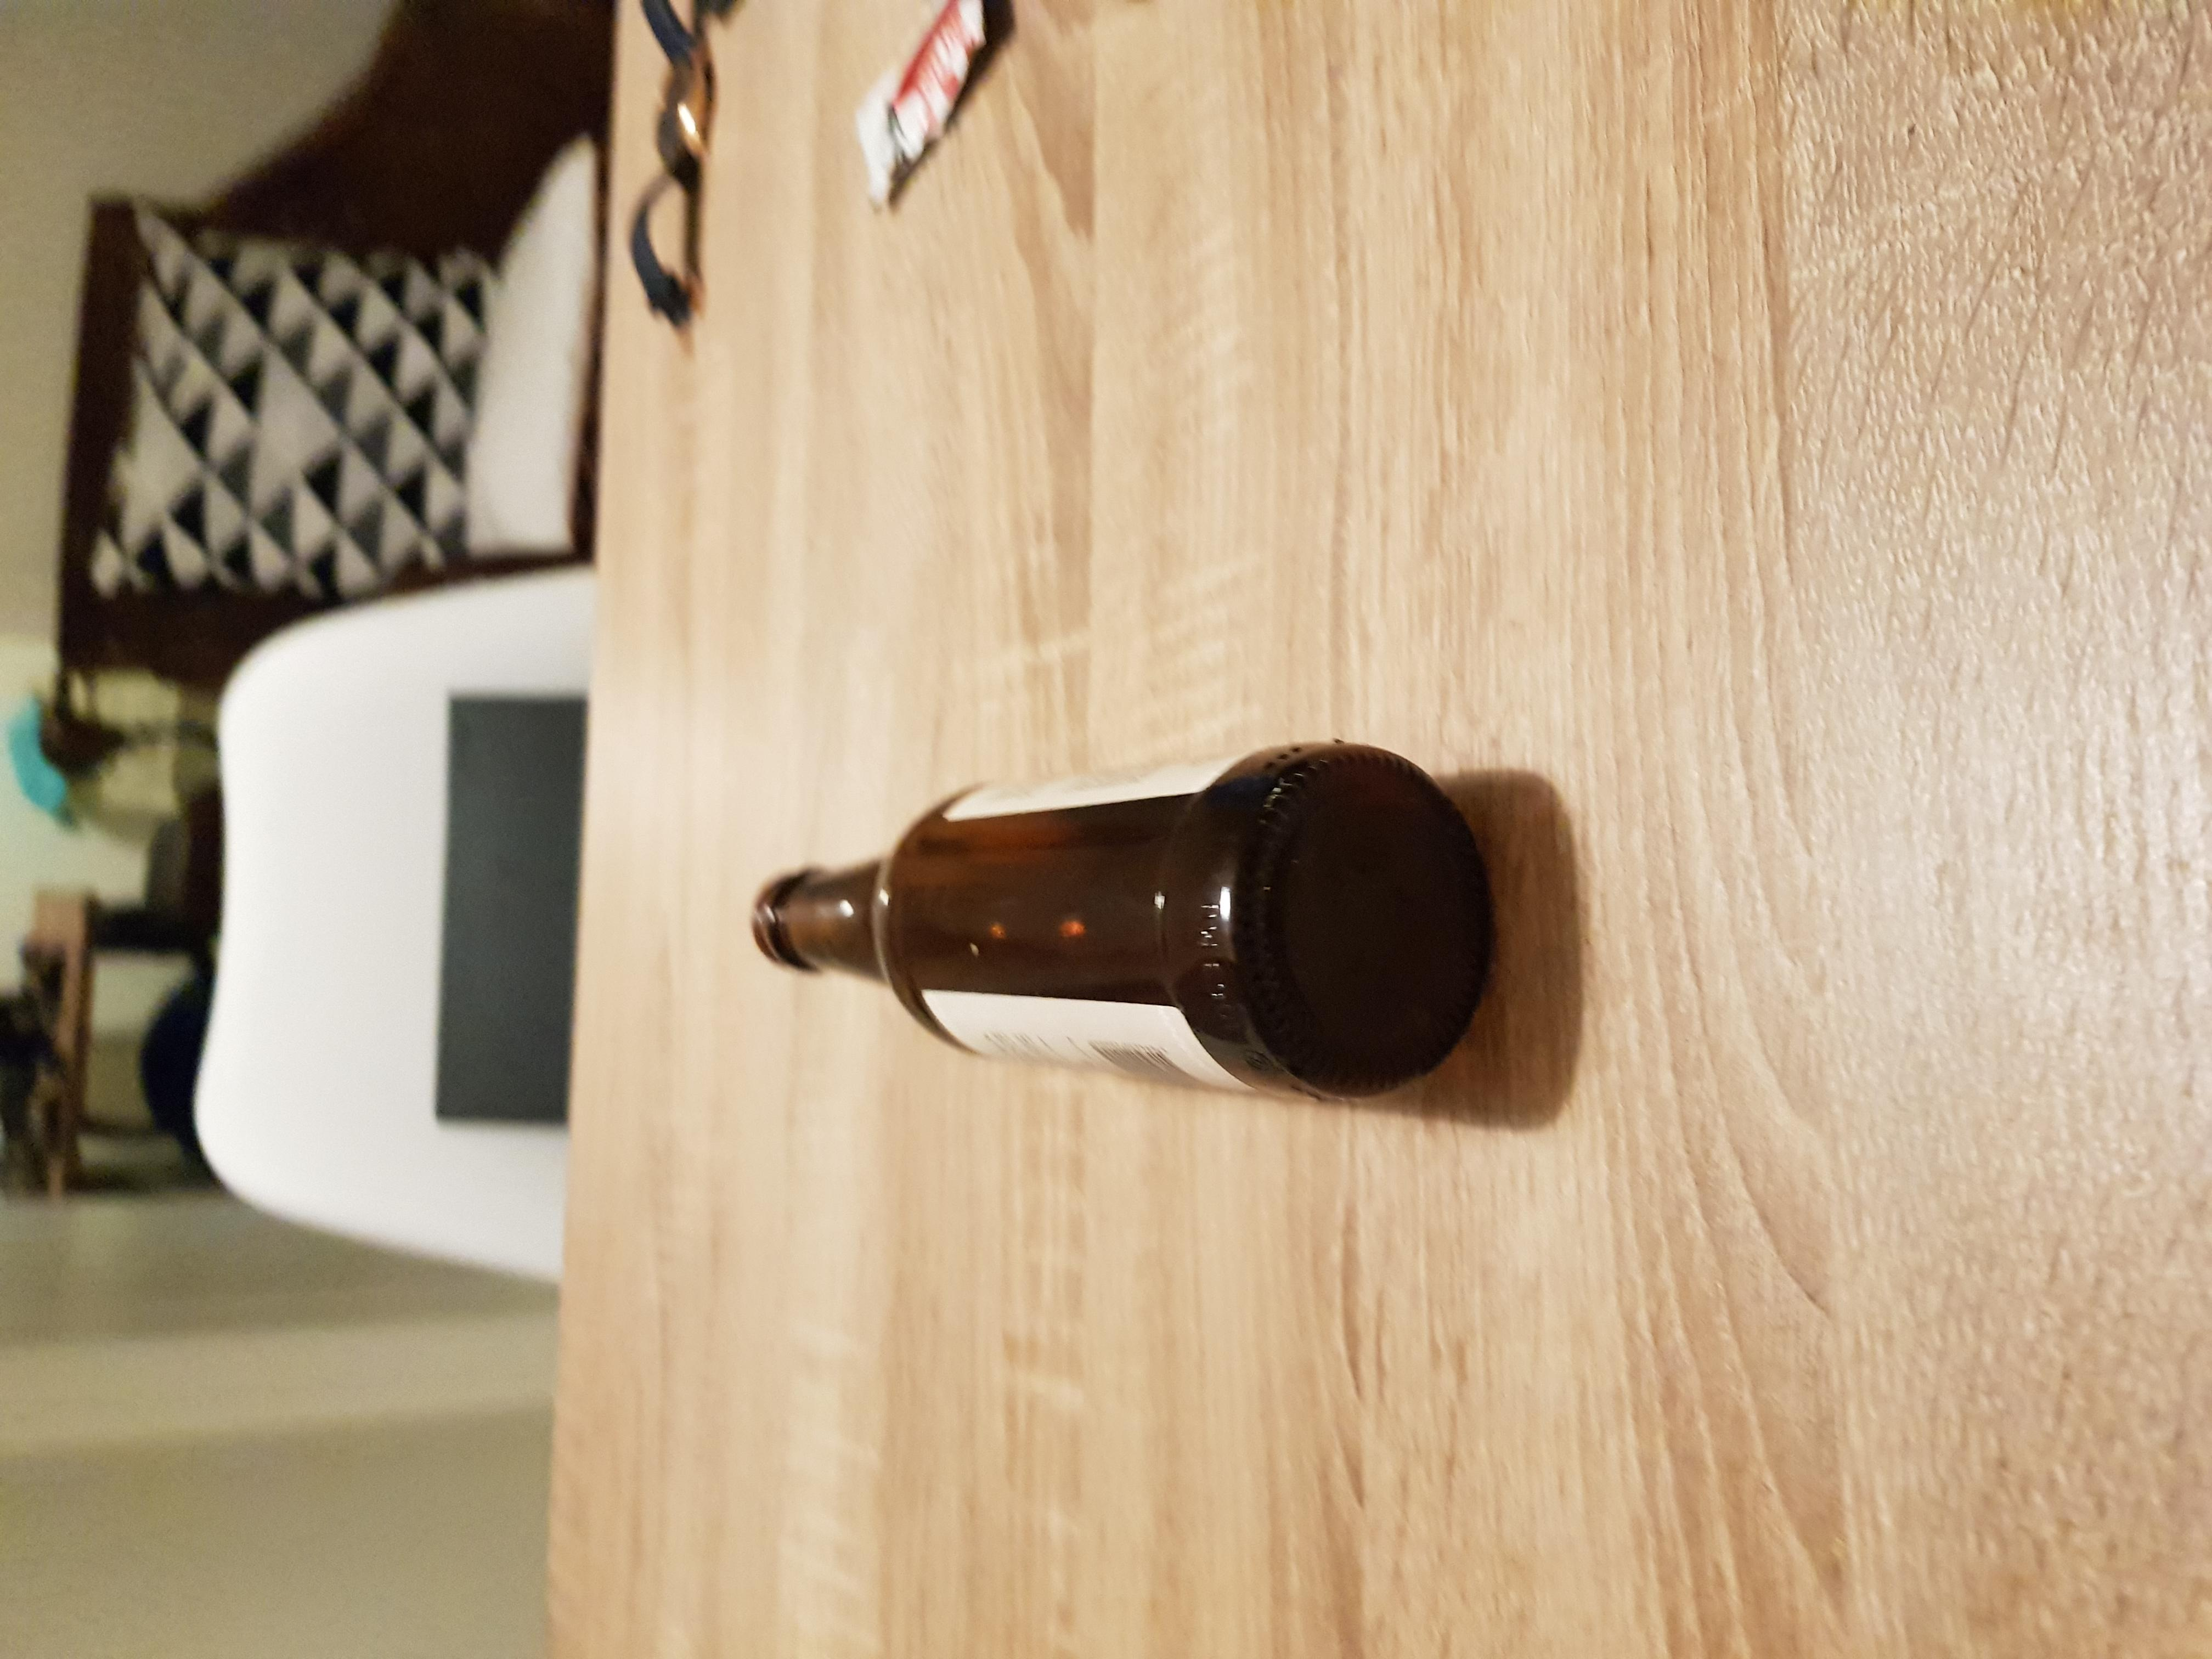Bottle: (744, 741, 1500, 1101)
